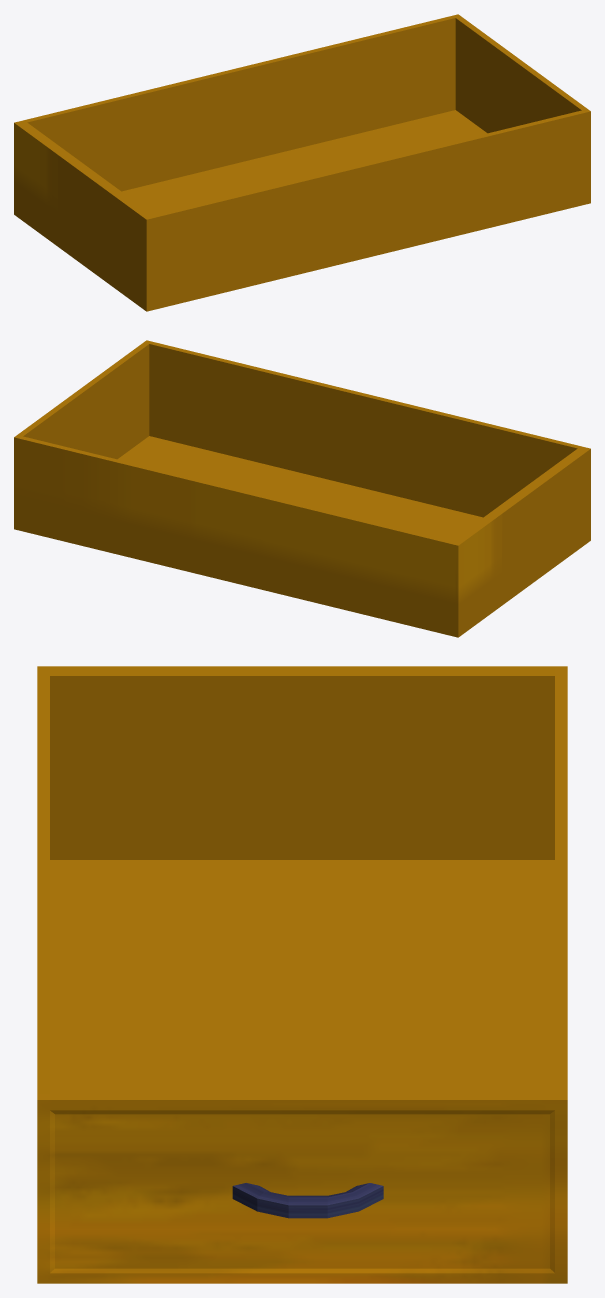
Rendered from obj_Desk_drawer.obj.
3 renders of one model, top to bottom at view 1: azimuth 30°, elevation 25°; view 2: azimuth 150°, elevation 25°; view 3: azimuth 270°, elevation 25°, orthographic. The views are drawn at different scales.
Visible parts, largest first — view 1: obj_Desk_drawer; view 2: obj_Desk_drawer; view 3: obj_Desk_drawer.
Part boxes in pixels (bbox=[...]): obj_Desk_drawer: bbox=[14, 14, 590, 311]; obj_Desk_drawer: bbox=[14, 340, 590, 637]; obj_Desk_drawer: bbox=[37, 666, 567, 1283].
Size of the model in its own units: 0.8621 by 0.1635 by 0.4271.
